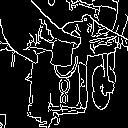cube: (45, 41, 80, 71)
